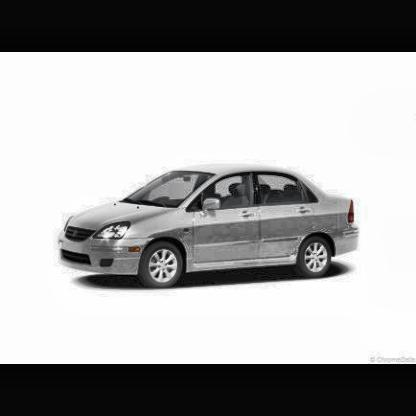Suzuki Aerio Sedan 2007: (58, 162, 363, 290)
